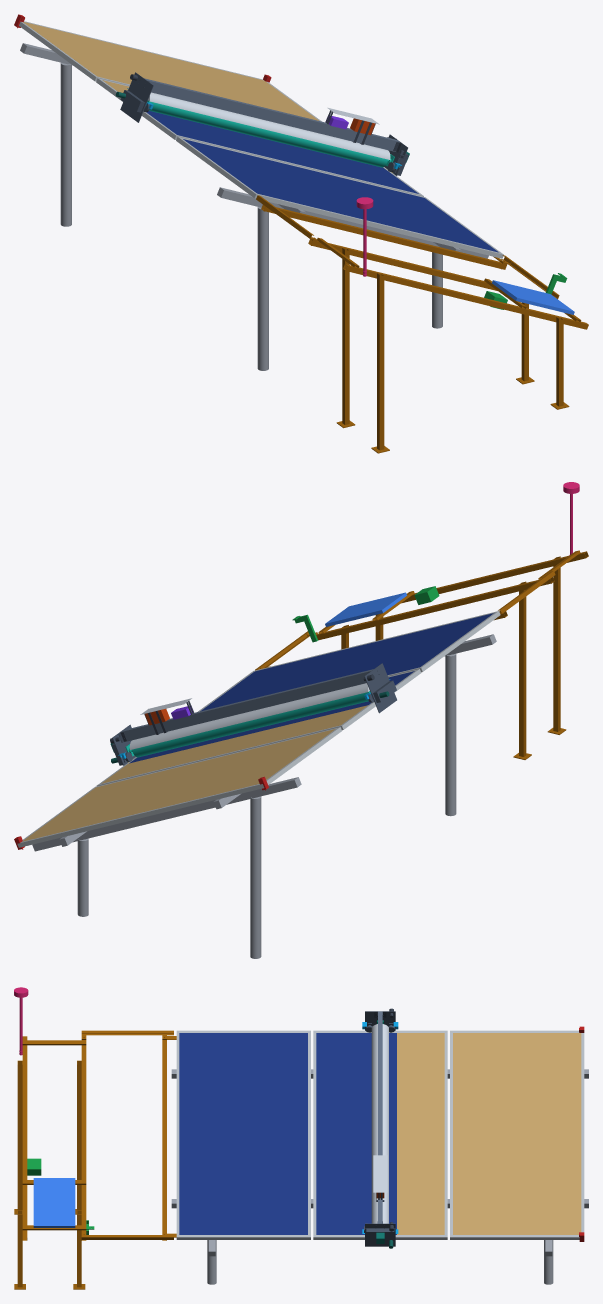
3 views of the same model, one above another, from view 1: azimuth 30°, elevation 25°; view 2: azimuth 150°, elevation 25°; view 3: azimuth 270°, elevation 25° (orthographic). The views are drawn at different scales.
Visible parts, largest first — view 1: Reference PV modules, glass (not in BOM), Dock frame, rails and clamps, Dust film, uncleaned (illustrative), Reference PV modules, frames (not in BOM), Table posts (existing), Chassis beam, 40 x 80 mm, Brush hood, Microfiber brush, 120 mm x 2.2 m, Table purlins and rafters (existing), End trucks and wheels (pair), Dock PV panel, 20 W; view 2: Dust film, uncleaned (illustrative), Reference PV modules, glass (not in BOM), Dock frame, rails and clamps, Table posts (existing), Reference PV modules, frames (not in BOM), Chassis beam, 40 x 80 mm, Table purlins and rafters (existing), Brush hood, Microfiber brush, 120 mm x 2.2 m, End trucks and wheels (pair), Dock PV panel, 20 W; view 3: Reference PV modules, glass (not in BOM), Dust film, uncleaned (illustrative), Reference PV modules, frames (not in BOM), Dock frame, rails and clamps, Brush hood, Dock PV panel, 20 W, End trucks and wheels (pair), Chassis beam, 40 x 80 mm, Table posts (existing), Table purlins and rafters (existing).
Boxes of the visible parts, x1,y1,x2,y2 form: Reference PV modules, glass (not in BOM): (146, 111, 498, 252); Dock frame, rails and clamps: (256, 195, 588, 453); Dust film, uncleaned (illustrative): (23, 22, 318, 120); Reference PV modules, frames (not in BOM): (19, 21, 503, 258); Table posts (existing): (60, 62, 442, 370); Chassis beam, 40 x 80 mm: (144, 78, 399, 151); Brush hood: (148, 92, 390, 159); Microfiber brush, 120 mm x 2.2 m: (147, 100, 394, 167); Table purlins and rafters (existing): (20, 43, 488, 258); End trucks and wheels (pair): (120, 72, 408, 175); Dock PV panel, 20 W: (492, 280, 574, 314); Dust film, uncleaned (illustrative): (22, 705, 367, 841); Reference PV modules, glass (not in BOM): (129, 613, 493, 763); Dock frame, rails and clamps: (255, 550, 588, 759); Table posts (existing): (77, 653, 456, 958); Reference PV modules, frames (not in BOM): (17, 611, 500, 847); Chassis beam, 40 x 80 mm: (120, 669, 373, 741); Table purlins and rafters (existing): (32, 634, 496, 851); Brush hood: (129, 683, 369, 749); Microfiber brush, 120 mm x 2.2 m: (125, 691, 370, 757); End trucks and wheels (pair): (111, 663, 396, 765); Dock PV panel, 20 W: (325, 592, 406, 626); Reference PV modules, glass (not in BOM): (179, 1033, 396, 1234); Dust film, uncleaned (illustrative): (397, 1033, 581, 1234); Reference PV modules, frames (not in BOM): (176, 1030, 584, 1239); Dock frame, rails and clamps: (14, 1030, 176, 1289); Brush hood: (371, 1024, 388, 1223); Dock PV panel, 20 W: (33, 1178, 75, 1227); End trucks and wheels (pair): (364, 1011, 395, 1246); Chassis beam, 40 x 80 mm: (378, 1011, 382, 1223); Table posts (existing): (207, 1240, 553, 1284); Table purlins and rafters (existing): (171, 1069, 588, 1256).
Bounding box in the file's own units: 2.39 × 2.01 × 4.85.
